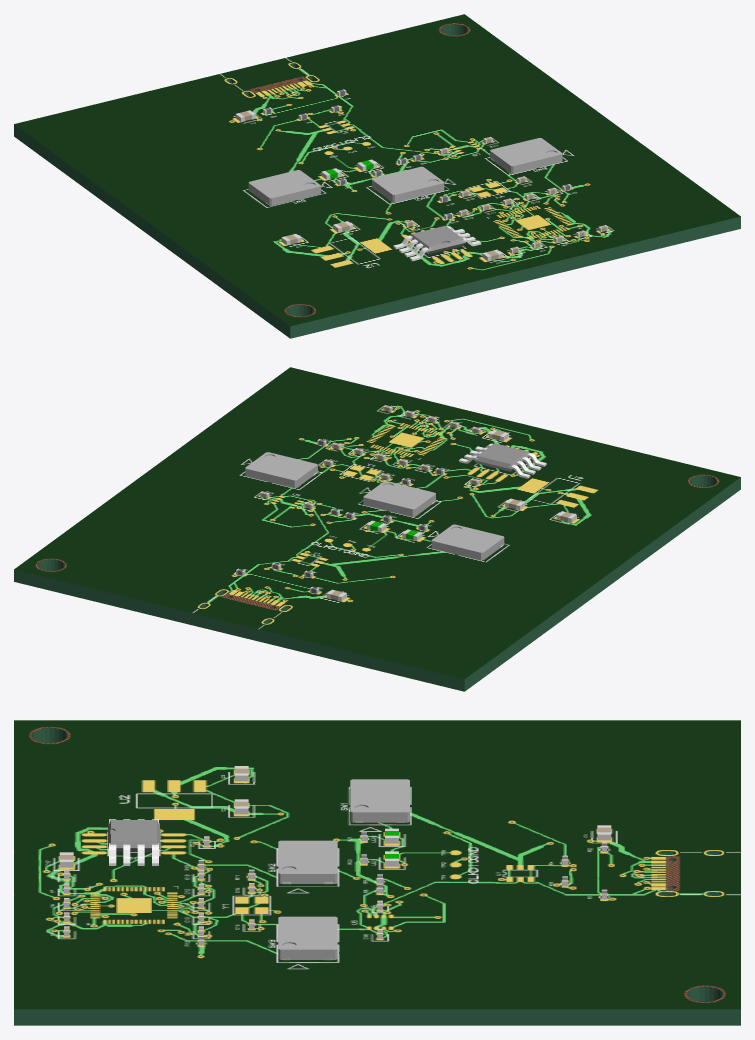
The model's file is board.glb.
3 views of the same model, one above another, from view 1: azimuth 30°, elevation 25°; view 2: azimuth 150°, elevation 25°; view 3: azimuth 270°, elevation 25° (orthographic). The views are drawn at different scales.
Parts seen in each view (by area): view 1: Box0, SW1, SW2, SW3, U4; view 2: Box0, SW1, SW3, SW2, U4; view 3: Box0, SW2, SW3, SW1, U4.
Part boxes in pixels (left/top/right/bottom): Box0: left=14, top=14, right=740, bottom=338; SW1: left=248, top=170, right=321, bottom=205; SW2: left=372, top=166, right=444, bottom=202; SW3: left=490, top=138, right=562, bottom=173; U4: left=393, top=225, right=481, bottom=261; Box0: left=14, top=367, right=740, bottom=691; SW1: left=431, top=524, right=504, bottom=560; SW3: left=245, top=452, right=317, bottom=488; SW2: left=363, top=481, right=435, bottom=516; U4: left=459, top=443, right=546, bottom=478; Box0: left=14, top=720, right=740, bottom=1025; SW2: left=278, top=840, right=337, bottom=883; SW3: left=278, top=916, right=337, bottom=959; SW1: left=350, top=779, right=409, bottom=822; U4: left=108, top=819, right=159, bottom=865.
Bounding box in the file's own units: 61 × 2.88 × 64.8.
Materials: 10 (2 with a texture image).
